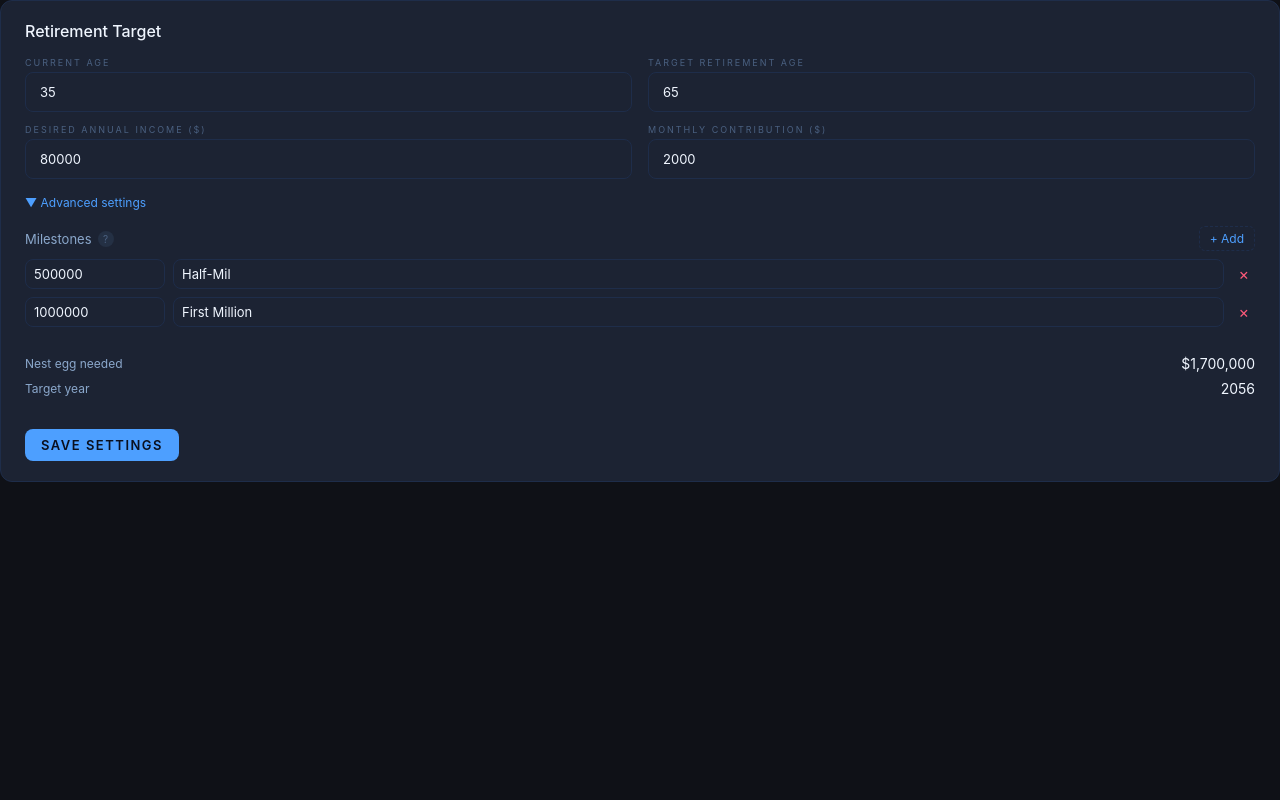
Test case: RetirementPanel › advanced section hidden by default, visible after toggle
This screenshot has width=1280, height=800.
Expected: the field labelled "withdrawal rate" is not shown
Click the button "▼ Advanced settings" at (86, 202), box [25,195,1255,210]
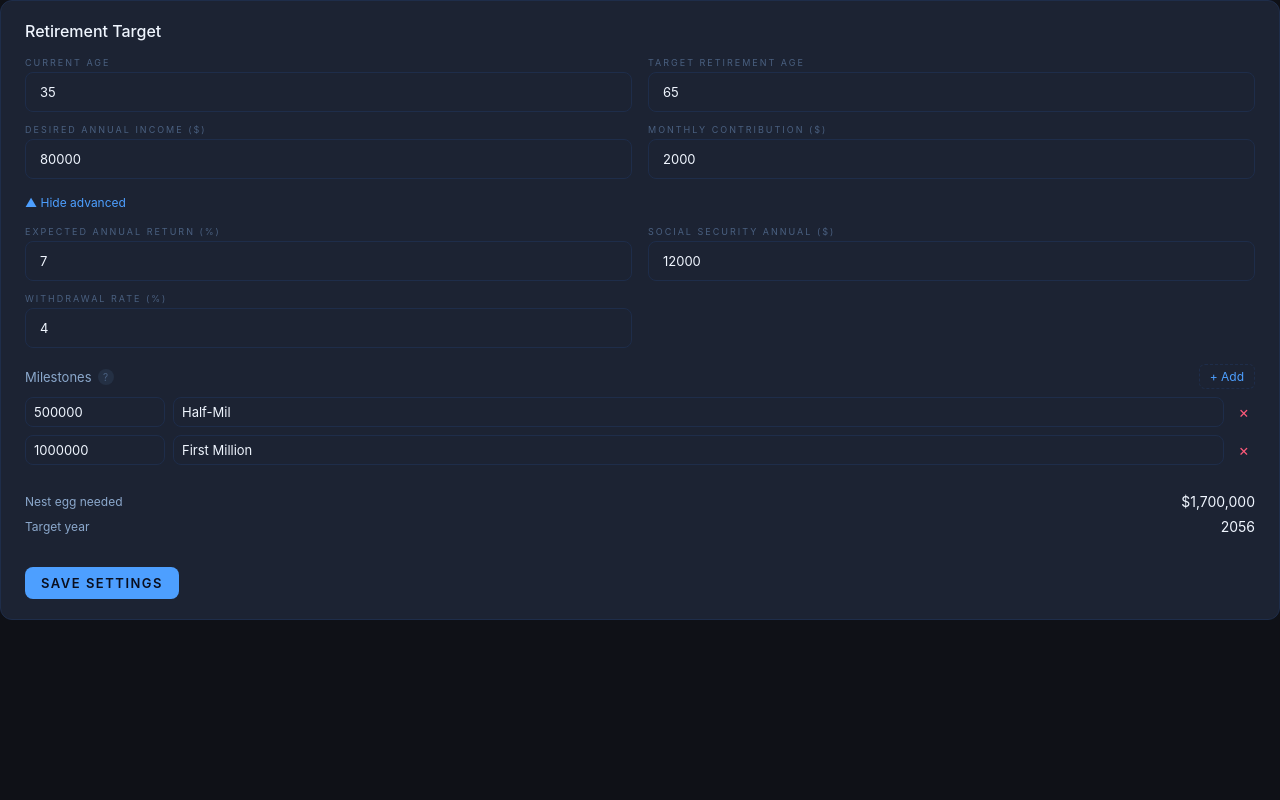
Result: the number field labelled "Withdrawal rate (%)" is shown at [25,308,632,348]
